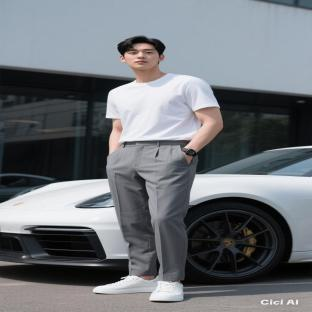Human: (95, 36, 222, 301)
